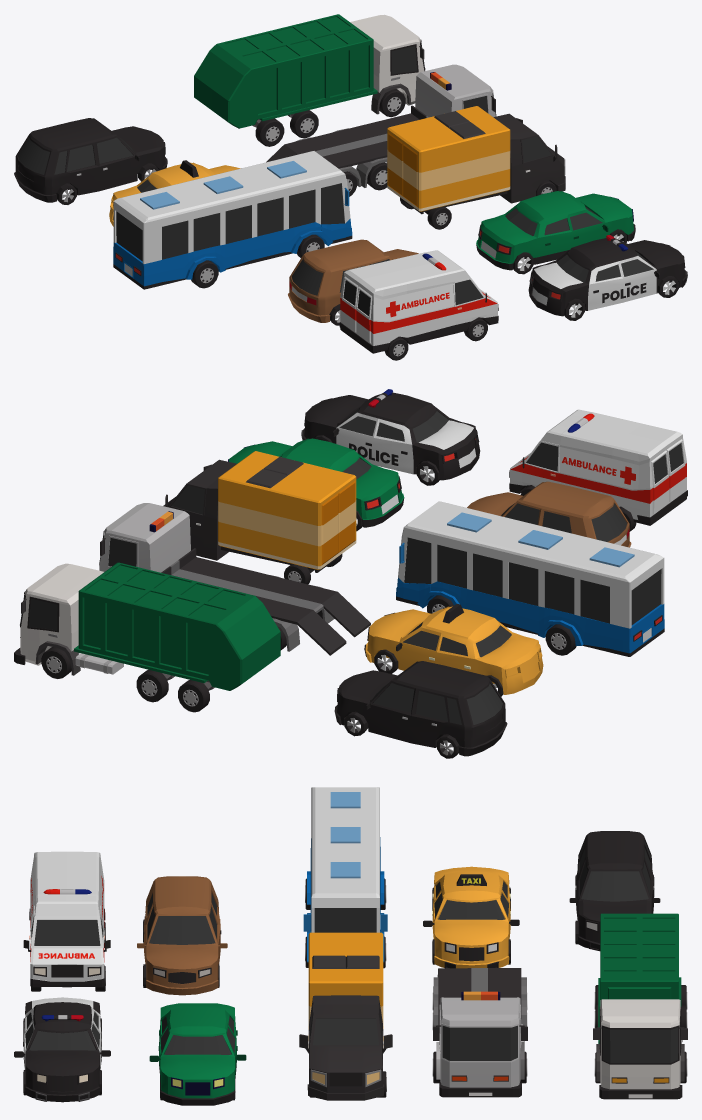
Rendered from cars.fbx.
3 views of the same model, one above another, from view 1: azimuth 30°, elevation 25°; view 2: azimuth 150°, elevation 25°; view 3: azimuth 270°, elevation 25° (orthographic). The views are drawn at different scales.
Parts seen in each view (by area): view 1: Cube.004, Cube, Cube.005, Ambulance.005, Car.022, Car.023, Car.012, Car.001, Cube.002, DumpTruck, Ambulance.001, truck (+17 smaller); view 2: Cube.004, Cube, Cube.005, Ambulance.005, Car.012, Car.022, Car.069, Cube.002, Car.023, DumpTruck, Car.001, truck (+22 smaller); view 3: Cube.004, Ambulance.005, Cube, Car.001, Car.023, Car.022, Car.069, Ambulance.001, Cube.005, DumpTruck, truck, Car.012 (+13 smaller).
Boxes of the visible parts, bbox=[...] form: Cube.004: bbox=[113, 151, 352, 289]; Cube: bbox=[194, 14, 373, 128]; Cube.005: bbox=[387, 106, 510, 211]; Ambulance.005: bbox=[339, 250, 498, 353]; Car.022: bbox=[528, 238, 687, 316]; Car.023: bbox=[476, 191, 635, 270]; Car.012: bbox=[14, 118, 167, 202]; Car.001: bbox=[288, 239, 418, 322]; Cube.002: bbox=[266, 105, 428, 168]; DumpTruck: bbox=[350, 14, 425, 114]; Ambulance.001: bbox=[493, 113, 565, 203]; truck: bbox=[415, 64, 495, 117]; Cube.004: bbox=[396, 501, 664, 656]; Cube: bbox=[78, 562, 280, 690]; Cube.005: bbox=[218, 451, 356, 569]; Ambulance.005: bbox=[509, 409, 687, 525]; Car.012: bbox=[334, 661, 507, 756]; Car.022: bbox=[301, 392, 480, 480]; Car.069: bbox=[364, 606, 543, 694]; Cube.002: bbox=[161, 548, 370, 655]; Car.023: bbox=[228, 438, 404, 527]; DumpTruck: bbox=[20, 563, 103, 675]; Car.001: bbox=[467, 481, 631, 547]; truck: bbox=[99, 503, 190, 572]; Cube.004: bbox=[307, 787, 384, 962]; Ambulance.005: bbox=[29, 851, 105, 987]; Cube: bbox=[600, 913, 678, 999]; Car.001: bbox=[144, 876, 220, 995]; Car.023: bbox=[159, 1003, 236, 1105]; Car.022: bbox=[23, 997, 101, 1102]; Car.069: bbox=[432, 866, 510, 968]; Ambulance.001: bbox=[307, 995, 384, 1100]; Cube.005: bbox=[308, 932, 383, 1048]; DumpTruck: bbox=[596, 999, 684, 1089]; truck: bbox=[436, 997, 524, 1087]; Car.012: bbox=[576, 831, 653, 951].
Size of what is drawn, in the model's own units: 1741 by 327 by 2075.
